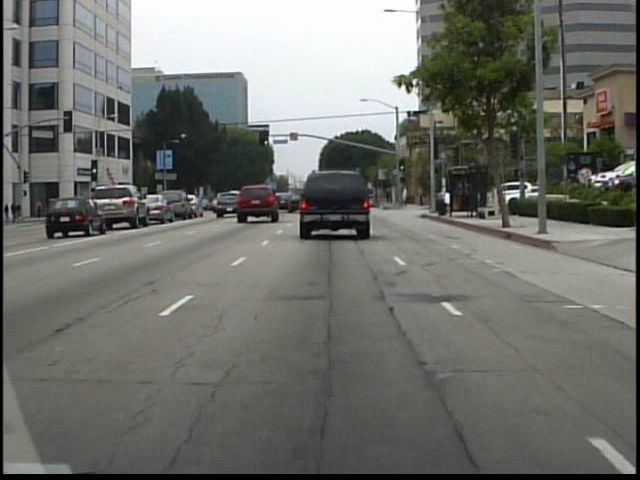person: (400, 184, 413, 210), (417, 181, 428, 209), (384, 184, 394, 208)
